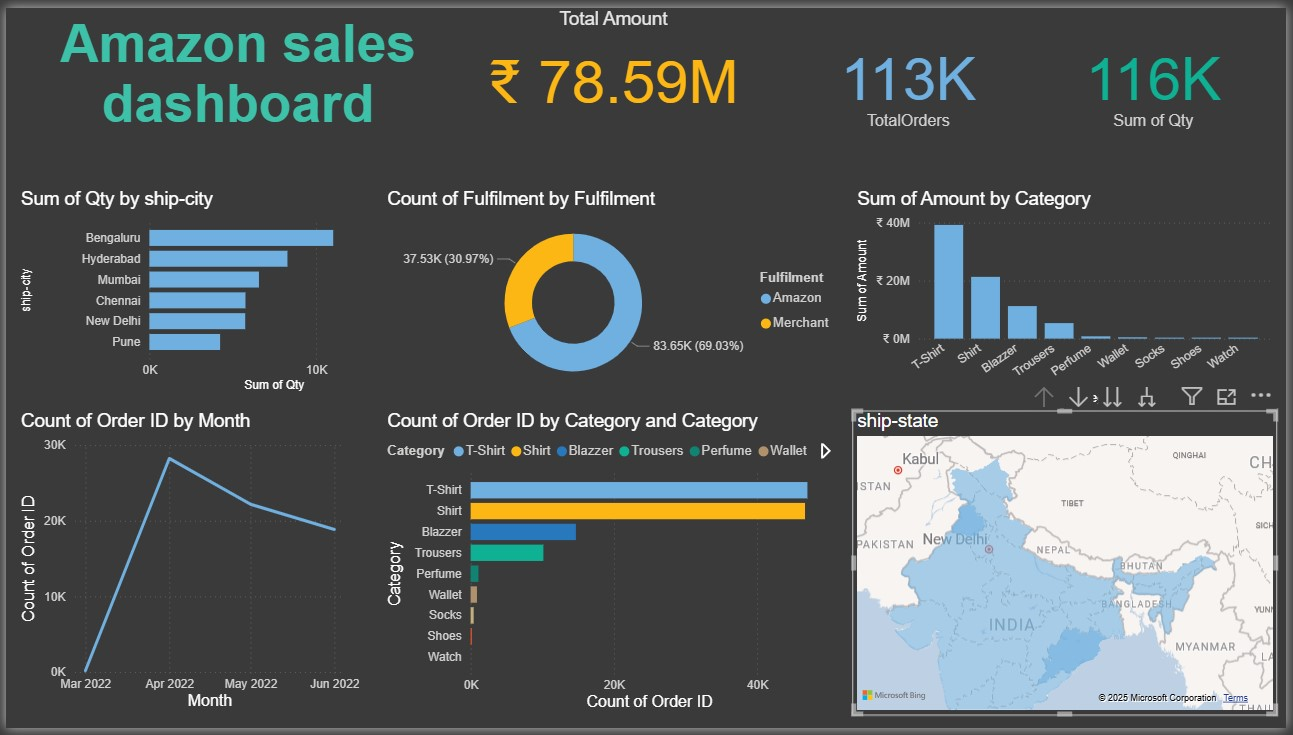

Layout of this report page (visuals, bound fields, positions):
{"tool":"powerbi","page":{"name":"Page 1","canvas":[1280,720],"ordinal":0},"visuals":[{"type":"card","title":"Total Amount","fields":{"Values":["Sum(Cleaned_Amazon_Sales_Report.Amount)","select"]},"box":[470,0,275,117.5],"z":0},{"type":"card","fields":{"Values":["Sum(Cleaned_Amazon_Sales_Report.Qty)"]},"box":[1038.8,16.2,217.5,117.5],"z":1000},{"type":"card","fields":{"Values":["Cleaned_Amazon_Sales_Report.TotalOrders"]},"box":[766.2,16.2,272.5,117.5],"z":2000},{"type":"lineChart","fields":{"Category":["Cleaned_Amazon_Sales_Report.Month"],"Y":["CountNonNull(Cleaned_Amazon_Sales_Report.Order ID)"]},"box":[10,402.9,348.6,304.3],"z":3000},{"type":"barChart","fields":{"Category":["Cleaned_Amazon_Sales_Report.Category"],"Y":["CountNonNull(Cleaned_Amazon_Sales_Report.Order ID)"],"Series":["Cleaned_Amazon_Sales_Report.Category"]},"box":[376.2,402.5,462.5,305],"z":4000},{"type":"clusteredColumnChart","fields":{"Y":["Sum(Cleaned_Amazon_Sales_Report.Amount)"],"Category":["Cleaned_Amazon_Sales_Report.Category"]},"box":[845.7,180,425.7,221.4],"z":5000},{"type":"barChart","fields":{"Category":["Cleaned_Amazon_Sales_Report.ship-city"],"Y":["Sum(Cleaned_Amazon_Sales_Report.Qty)"]},"box":[10,180,407.5,208.8],"z":6000},{"type":"donutChart","fields":{"Category":["Cleaned_Amazon_Sales_Report.Fulfilment"],"Y":["CountNonNull(Cleaned_Amazon_Sales_Report.Fulfilment)"]},"box":[376.2,180,462.5,208.8],"z":7000},{"type":"filledMap","fields":{"Category":["Cleaned_Amazon_Sales_Report.ship-state","Cleaned_Amazon_Sales_Report.ship-city","Cleaned_Amazon_Sales_Report.Qty"]},"box":[845.7,402.9,425.7,304.3],"z":8000},{"type":"textbox","box":[10,0,444.3,150],"z":9000}]}

Visuals, with their boxes in screenshot pixels (x1, y1, x2, y2), scaled from the page's 1280x720 canvas onto the 1293x735 screenshot:
"Total Amount" card: (x1=475, y1=0, x2=753, y2=120)
card - Sum(Cleaned_Amazon_Sales_Report.Qty): (x1=1049, y1=17, x2=1269, y2=136)
card - Cleaned_Amazon_Sales_Report.TotalOrders: (x1=774, y1=17, x2=1049, y2=136)
lineChart - Cleaned_Amazon_Sales_Report.Month x CountNonNull(Cleaned_Amazon_Sales_Report.Order ID): (x1=10, y1=411, x2=362, y2=722)
barChart - Cleaned_Amazon_Sales_Report.Category x CountNonNull(Cleaned_Amazon_Sales_Report.Order ID): (x1=380, y1=411, x2=847, y2=722)
clusteredColumnChart - Sum(Cleaned_Amazon_Sales_Report.Amount) x Cleaned_Amazon_Sales_Report.Category: (x1=854, y1=184, x2=1284, y2=410)
barChart - Cleaned_Amazon_Sales_Report.ship-city x Sum(Cleaned_Amazon_Sales_Report.Qty): (x1=10, y1=184, x2=422, y2=397)
donutChart - Cleaned_Amazon_Sales_Report.Fulfilment x CountNonNull(Cleaned_Amazon_Sales_Report.Fulfilment): (x1=380, y1=184, x2=847, y2=397)
filledMap - Cleaned_Amazon_Sales_Report.ship-state x Cleaned_Amazon_Sales_Report.ship-city: (x1=854, y1=411, x2=1284, y2=722)
textbox: (x1=10, y1=0, x2=459, y2=153)
